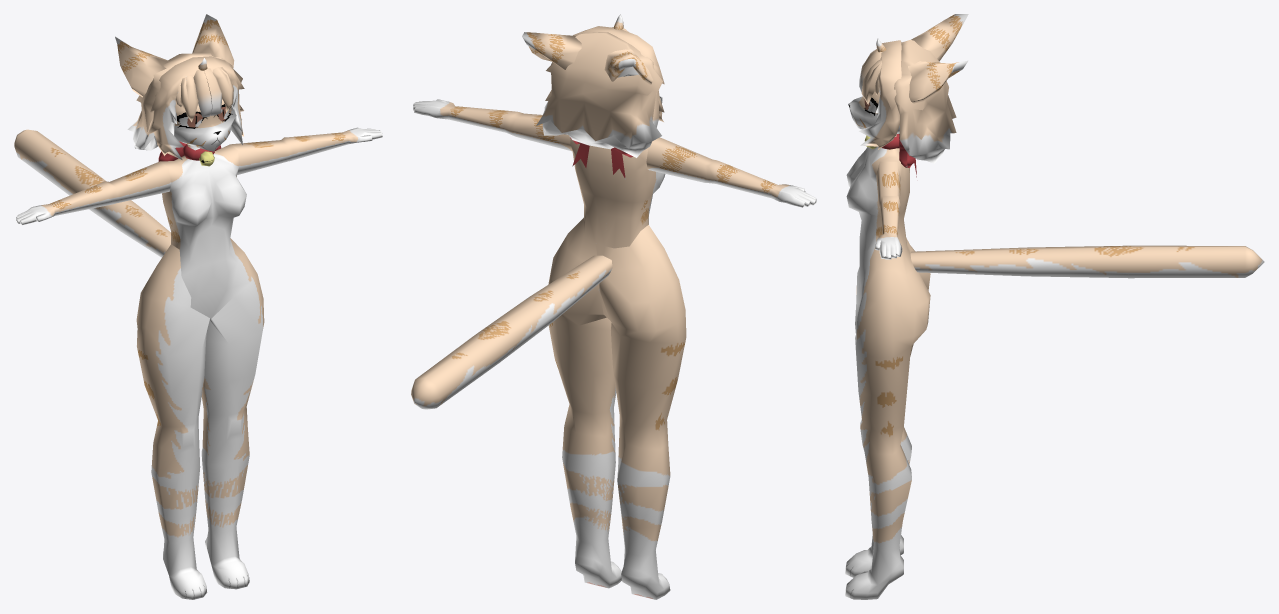
The model's file is Kat.obj.
3 views of the same model, side by side, from view 1: azimuth 30°, elevation 25°; view 2: azimuth 150°, elevation 25°; view 3: azimuth 270°, elevation 25° (orthographic). The views are drawn at different scales.
Visible parts, largest first — view 1: Body, Hair, Tail, Head1; view 2: Body, Hair, Tail, Head1, Ribbon1; view 3: Body, Tail, Hair, Head1.
Part boxes in pixels (<box>): Body: <box>16,127,382,599</box>; Hair: <box>127,53,244,159</box>; Tail: <box>14,129,170,257</box>; Head1: <box>115,14,236,151</box>; Body: <box>413,99,816,599</box>; Hair: <box>536,14,664,157</box>; Tail: <box>411,255,612,409</box>; Head1: <box>522,32,653,85</box>; Ribbon1: <box>570,137,632,179</box>; Body: <box>845,134,930,599</box>; Tail: <box>910,245,1264,278</box>; Hair: <box>859,38,956,163</box>; Head1: <box>848,14,968,133</box>.
Bounding box in the file's own units: 5.76 × 7.95 × 5.54.
